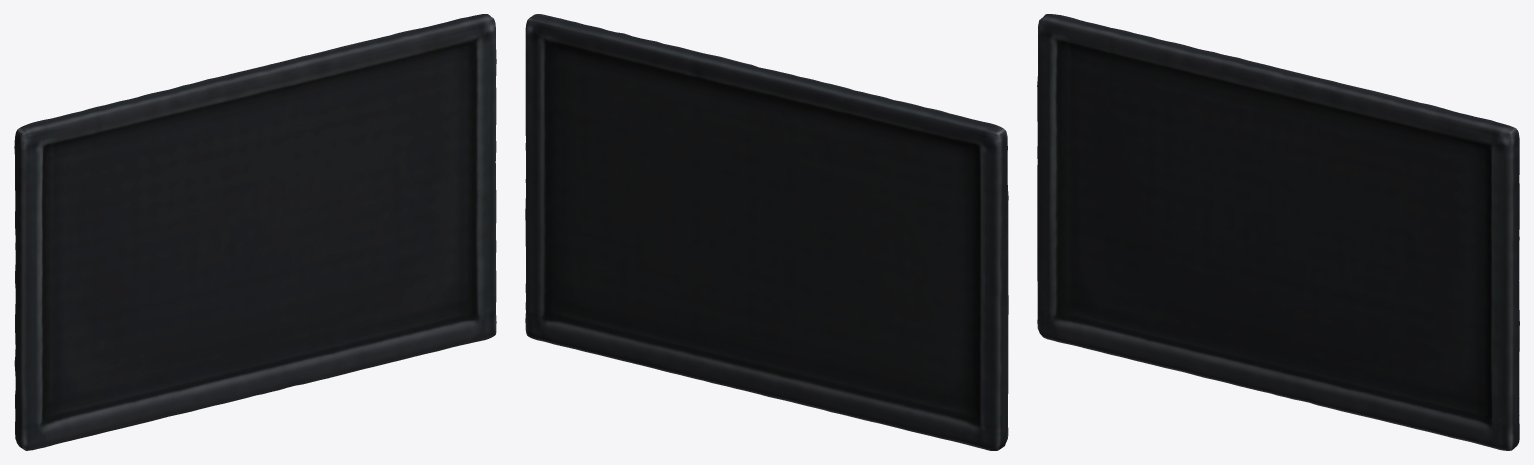
The model's file is 9614c8ed405a_black_board__3d_ass.fbx.
3 views of the same model, side by side, from view 1: azimuth 30°, elevation 25°; view 2: azimuth 150°, elevation 25°; view 3: azimuth 330°, elevation 25° (orthographic).
Visible parts, largest first — view 1: mesh; view 2: mesh; view 3: mesh.
Part boxes in pixels (x1,y1,x2,y2): mesh: (14, 14, 496, 450); mesh: (525, 14, 1008, 450); mesh: (1037, 14, 1519, 450).
Bounding box in the file's own units: 99.94 × 64.61 × 3.99.
